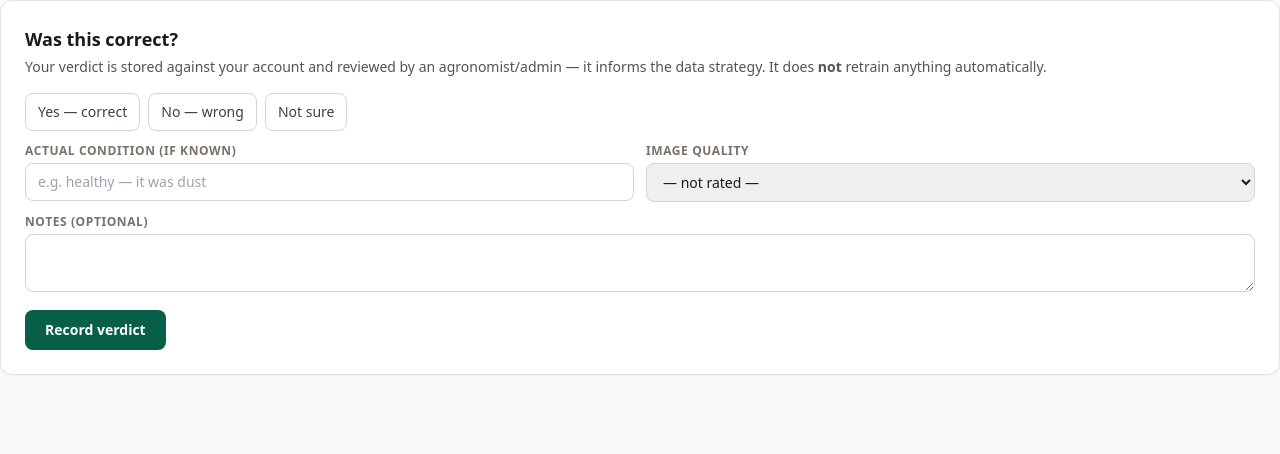
Test: FeedbackPanel (per-account verdicts) › surfaces backend rejection reasons verbatim (e.g. 401 sign-in required)
Click the radio button "Yes — correct".
click(83, 112)  # box 25,93 -> 140,131
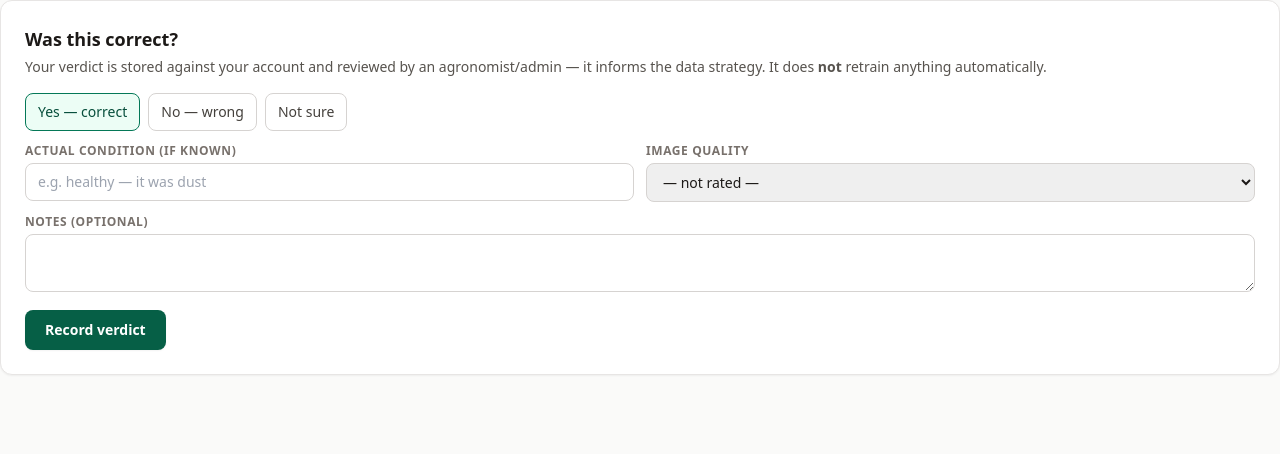
Click the button "Record verdict".
click(95, 330)  # box 25,310 -> 166,350
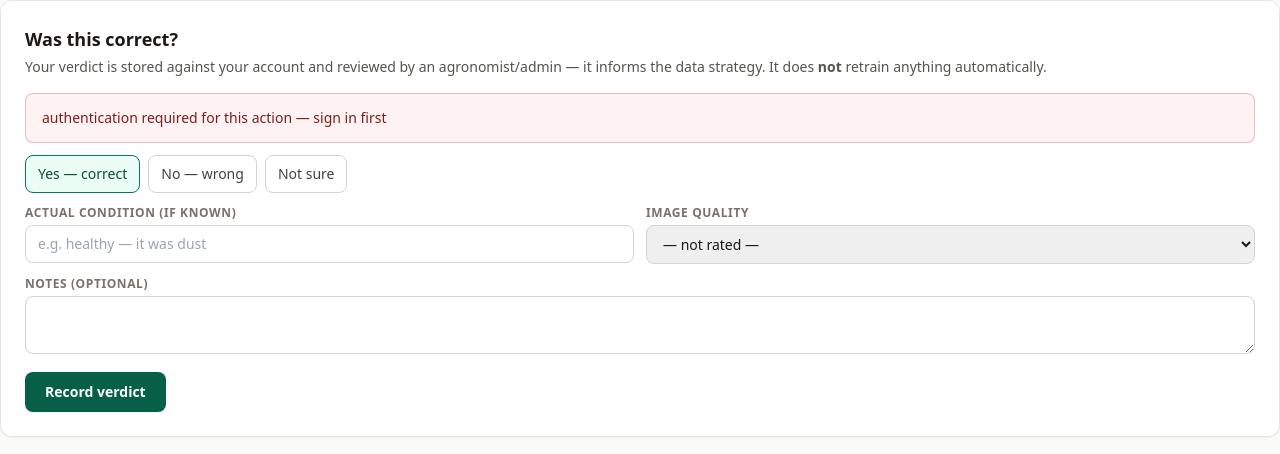
Expected: the text "authentication required for this action — sign in first" is shown, 25,93 -> 1255,143
